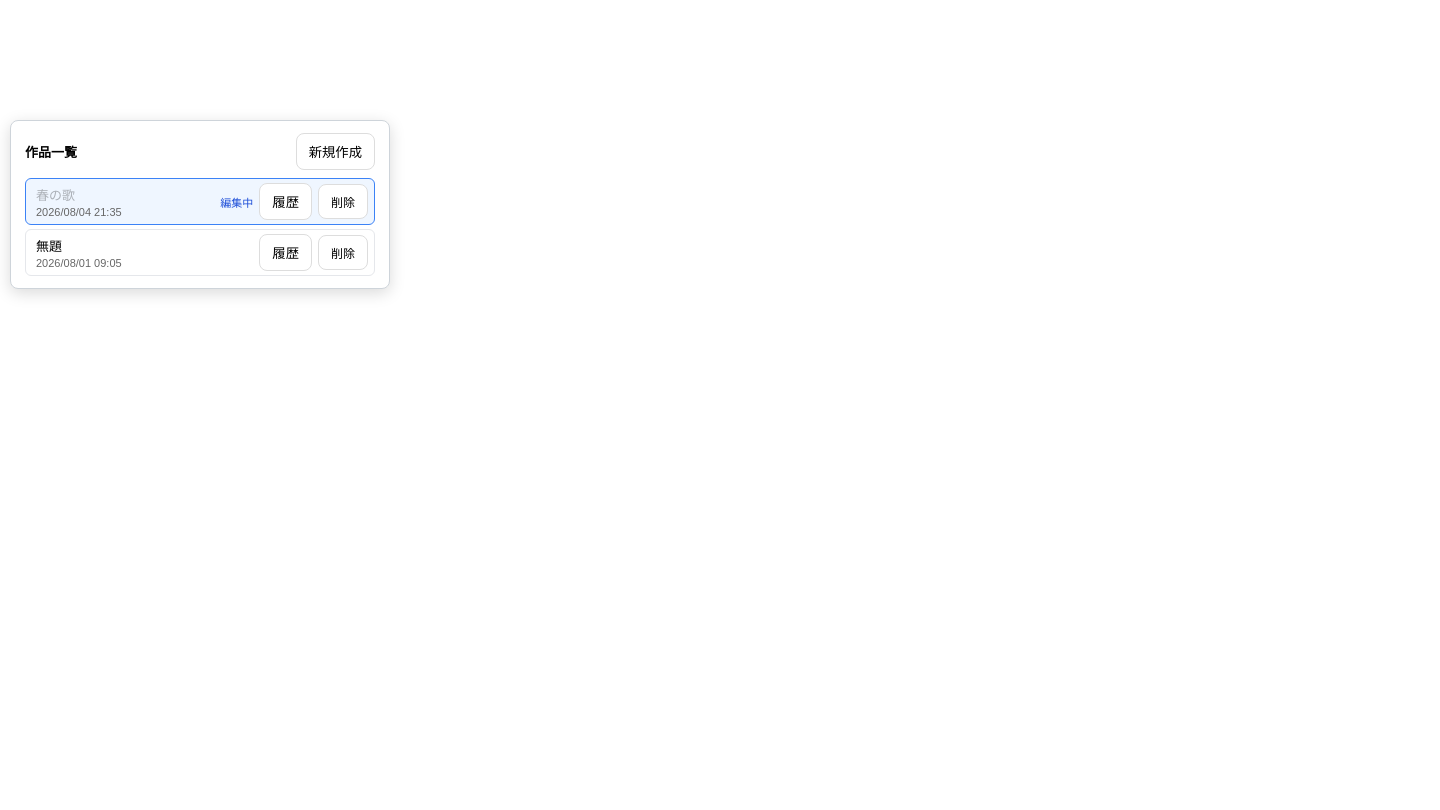
Test: 作品一覧パネル（Issue #181） › 復元履歴（Issue #109 第3段） › 「履歴」で世代一覧が開き、無ければ説明が出る
This screenshot has width=1440, height=810.
Click the button with aria-label "春の歌 の復元履歴".
click(286, 202)  # box [259,183,312,220]
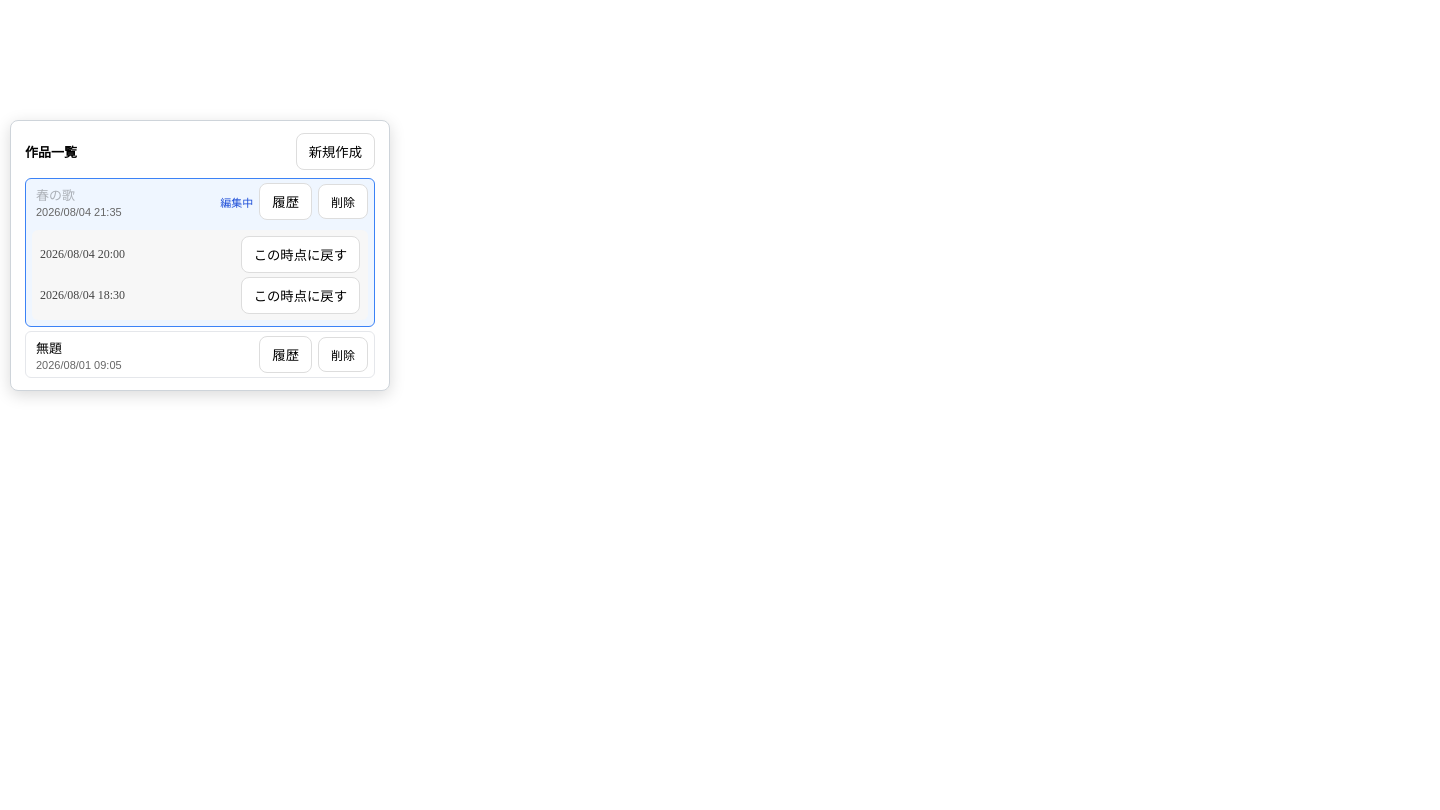
Result: the text "2026/08/04 20:00" is shown at [40,247,125,262]
Result: the text "2026/08/04 18:30" is shown at [40,288,125,303]
世代が無い作品では説明文
Click the button with aria-label "無題 の復元履歴".
click(286, 354)  # box [259,336,312,373]
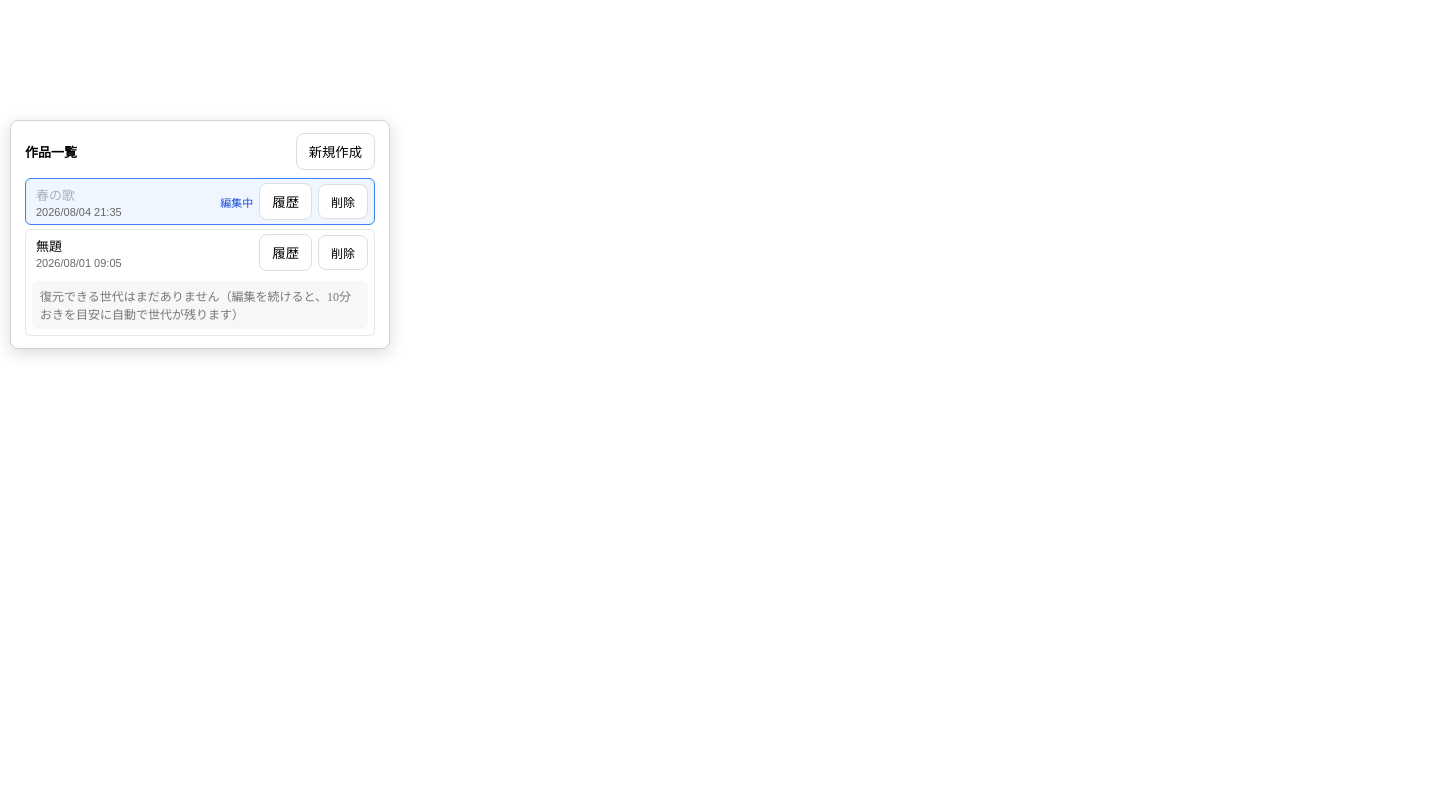
Result: the text "復元できる世代はまだありません（編集を続けると、10分おきを目安に自動で世代が残ります）" is shown at [40,287,360,323]
